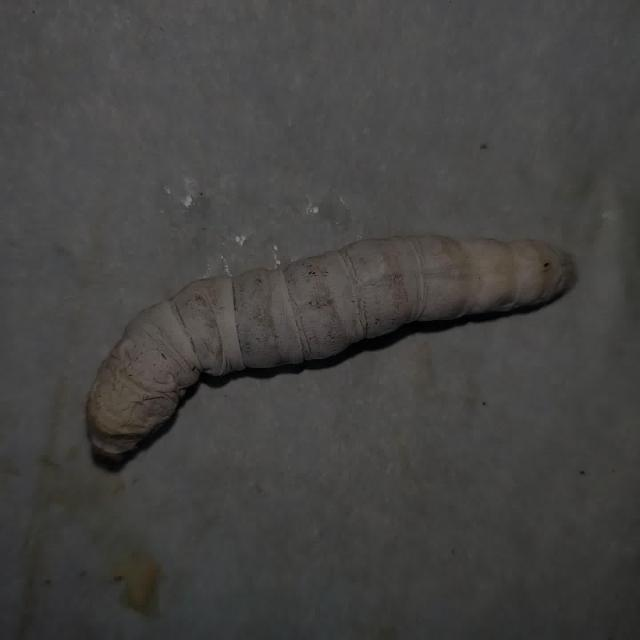Grasserie: (63, 219, 602, 463)
